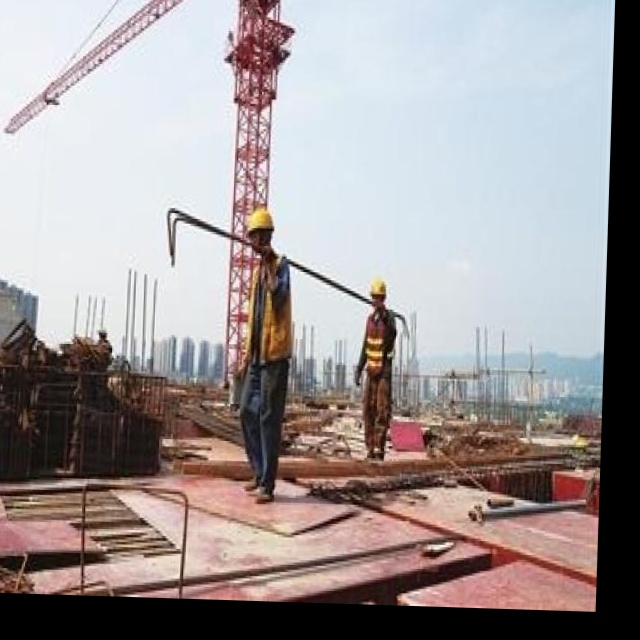Con_Chaleco: (364, 309, 395, 373)
